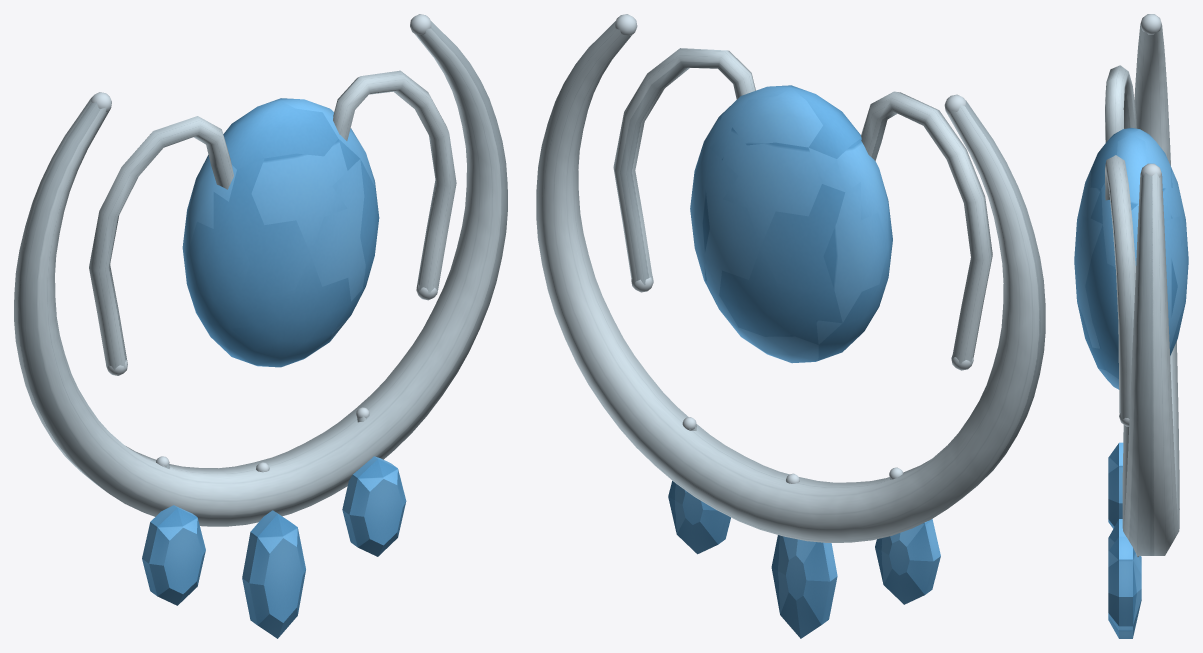
File: mercury_crest.obj
3 renders of one model, left to right at view 1: azimuth 30°, elevation 25°; view 2: azimuth 150°, elevation 25°; view 3: azimuth 270°, elevation 25°, orthographic. The views are drawn at different scales.
Parts seen in each view (by area): view 1: A_TaperedSilverCrescent.001_mercury_crest_silver, B_BlueCabochon.001_mercury_crest_enamel, C_PiercedCurl-1.001_mercury_crest_silver, C_PiercedCurl1.001_mercury_crest_silver, E_BlueDrop1.001_mercury_crest_enamel, E_BlueDrop0.001_mercury_crest_enamel, E_BlueDrop2.001_mercury_crest_enamel; view 2: A_TaperedSilverCrescent.001_mercury_crest_silver, B_BlueCabochon.001_mercury_crest_enamel, C_PiercedCurl-1.001_mercury_crest_silver, C_PiercedCurl1.001_mercury_crest_silver, E_BlueDrop1.001_mercury_crest_enamel, E_BlueDrop0.001_mercury_crest_enamel, E_BlueDrop2.001_mercury_crest_enamel; view 3: A_TaperedSilverCrescent.001_mercury_crest_silver, B_BlueCabochon.001_mercury_crest_enamel, C_PiercedCurl1.001_mercury_crest_silver, E_BlueDrop2.001_mercury_crest_enamel, C_PiercedCurl-1.001_mercury_crest_silver, E_BlueDrop0.001_mercury_crest_enamel, E_BlueDrop1.001_mercury_crest_enamel, CAP_A_TaperedSilverCrescent0.001_mercury_crest_unpainted_rounded, CAP_A_TaperedSilverCrescent1.001_mercury_crest_unpainted_rounded.
Part boxes in pixels (x1,y1,x2,y2): A_TaperedSilverCrescent.001_mercury_crest_silver: (14,21,507,526); B_BlueCabochon.001_mercury_crest_enamel: (182,98,379,367); C_PiercedCurl-1.001_mercury_crest_silver: (89,116,233,369); C_PiercedCurl1.001_mercury_crest_silver: (333,70,456,293); E_BlueDrop1.001_mercury_crest_enamel: (242,510,305,638); E_BlueDrop0.001_mercury_crest_enamel: (142,505,205,605); E_BlueDrop2.001_mercury_crest_enamel: (342,456,406,556); A_TaperedSilverCrescent.001_mercury_crest_silver: (536,21,1045,542); B_BlueCabochon.001_mercury_crest_enamel: (690,85,892,363); C_PiercedCurl-1.001_mercury_crest_silver: (861,91,992,363); C_PiercedCurl1.001_mercury_crest_silver: (613,48,755,285); E_BlueDrop1.001_mercury_crest_enamel: (771,535,837,638); E_BlueDrop0.001_mercury_crest_enamel: (875,519,940,604); E_BlueDrop2.001_mercury_crest_enamel: (668,481,730,554); A_TaperedSilverCrescent.001_mercury_crest_silver: (1122,25,1179,555); B_BlueCabochon.001_mercury_crest_enamel: (1074,128,1188,389); C_PiercedCurl1.001_mercury_crest_silver: (1105,155,1135,419); E_BlueDrop2.001_mercury_crest_enamel: (1108,536,1141,630); C_PiercedCurl-1.001_mercury_crest_silver: (1105,65,1136,142); E_BlueDrop0.001_mercury_crest_enamel: (1108,442,1123,528); E_BlueDrop1.001_mercury_crest_enamel: (1108,519,1141,638); CAP_A_TaperedSilverCrescent0.001_mercury_crest_unpainted_rounded: (1140,14,1161,34); CAP_A_TaperedSilverCrescent1.001_mercury_crest_unpainted_rounded: (1140,163,1161,177).
Bounding box in the file's own units: 1.5 × 1.69 × 0.32.
3 materials, 2 textured.
